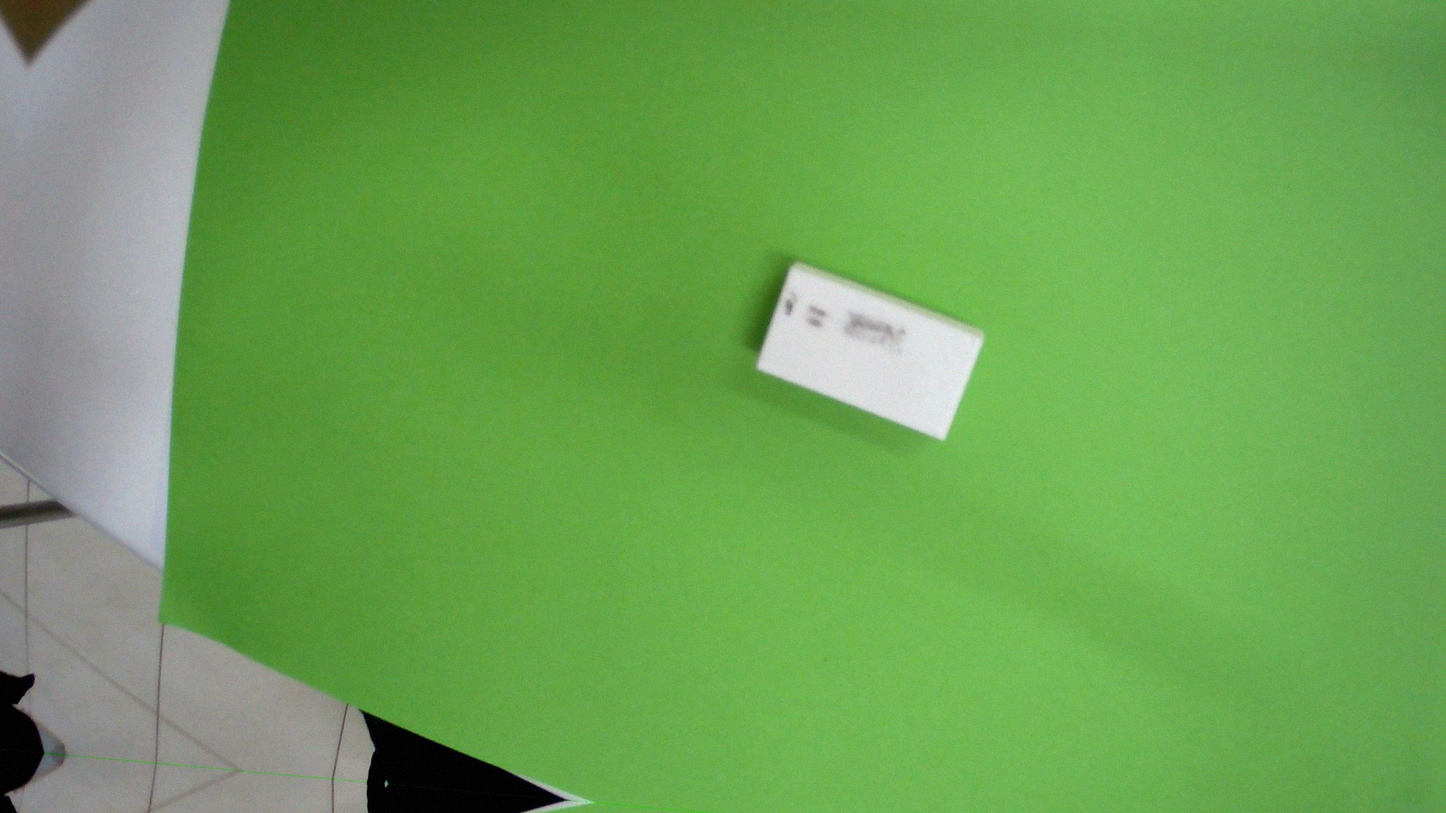gom: (738, 254, 990, 443)
